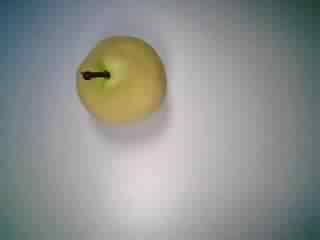pear: (64, 29, 175, 139)
